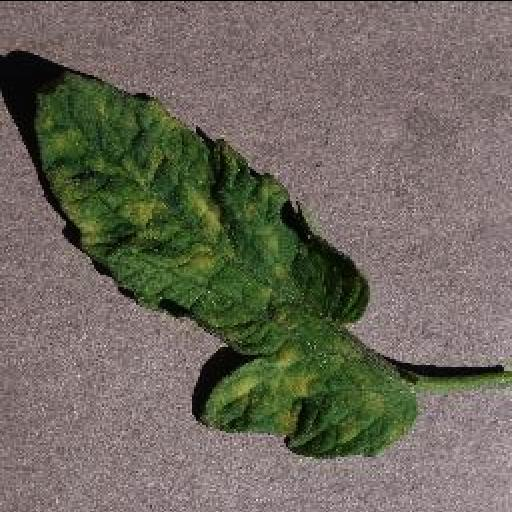disease_tomato: (30, 69, 420, 458)
